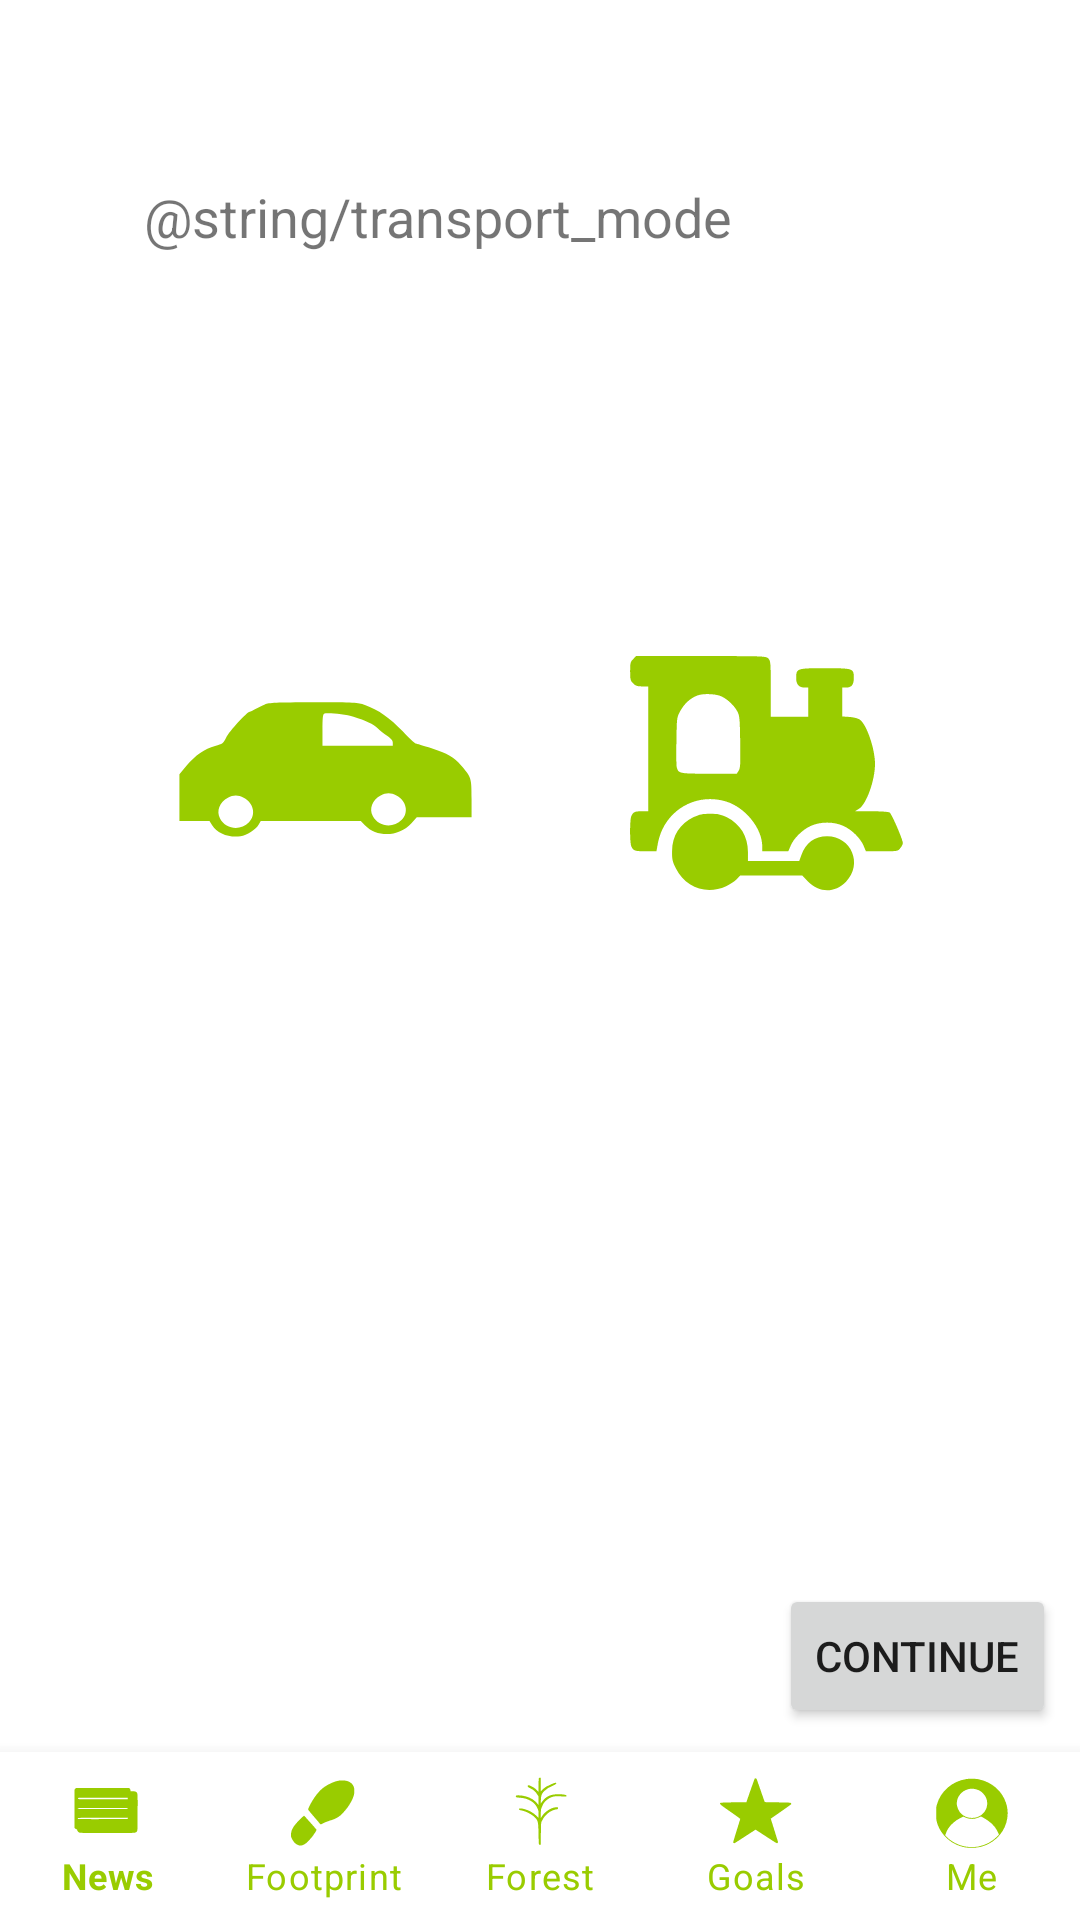

Where icons sit on this 1080w x 1920h app screen, as [x1,y1,x2,y2]:
car: [179,702,472,837]
train: [630,656,903,891]
